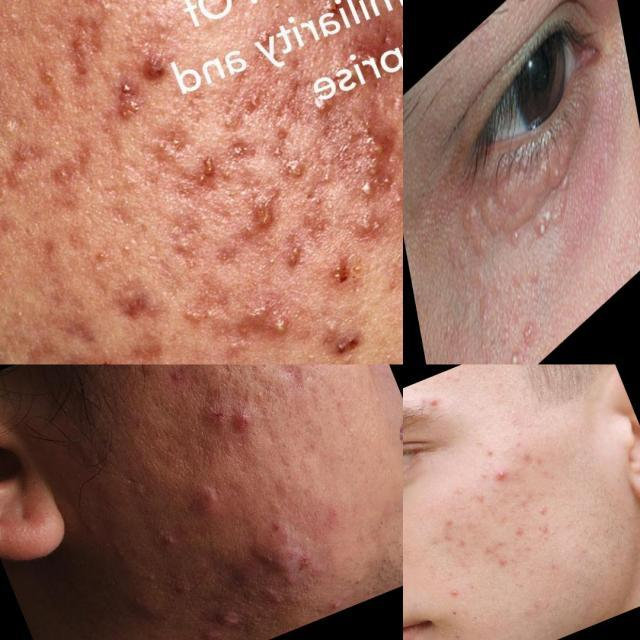Pimples: (313, 110, 403, 225), (235, 516, 328, 606), (27, 4, 116, 84), (170, 371, 248, 448), (100, 66, 158, 134), (449, 198, 492, 281), (478, 176, 516, 243), (106, 282, 155, 330), (259, 303, 307, 349), (520, 144, 557, 203), (184, 475, 228, 523), (190, 143, 228, 197), (251, 185, 291, 233), (525, 203, 557, 260), (206, 602, 252, 639), (230, 400, 265, 443), (274, 364, 312, 399), (315, 588, 354, 618), (494, 330, 528, 364), (550, 160, 573, 197), (56, 346, 102, 364), (518, 321, 540, 358), (490, 462, 512, 486)
